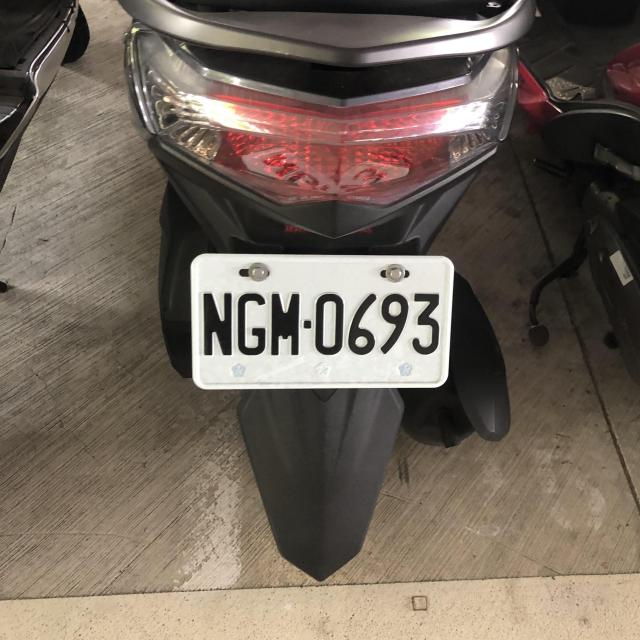W: (187, 250, 451, 388)
